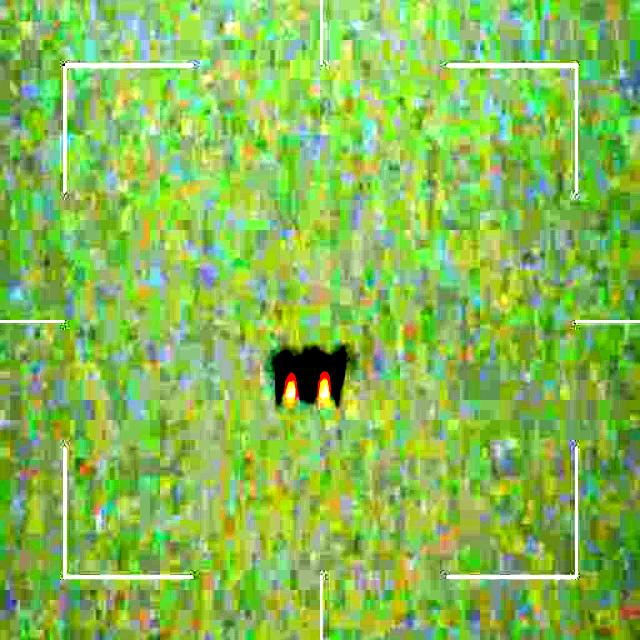bird: (274, 345, 349, 404)
